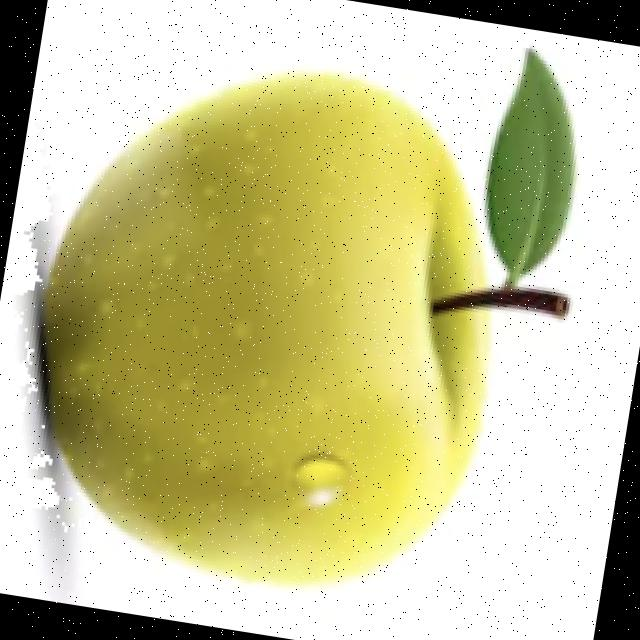apple: (12, 42, 582, 603)
